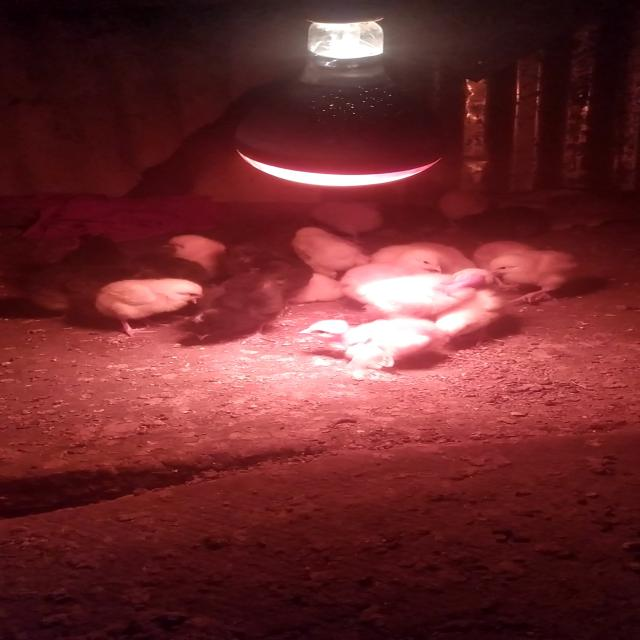chick: (294, 317, 447, 376), (184, 272, 283, 346), (351, 269, 493, 316), (94, 278, 205, 338), (488, 249, 575, 305), (24, 269, 110, 319), (289, 224, 369, 277), (334, 250, 446, 287), (304, 202, 387, 245), (56, 232, 132, 276), (160, 232, 225, 276), (436, 189, 489, 228)
objects: (229, 5, 467, 189)
